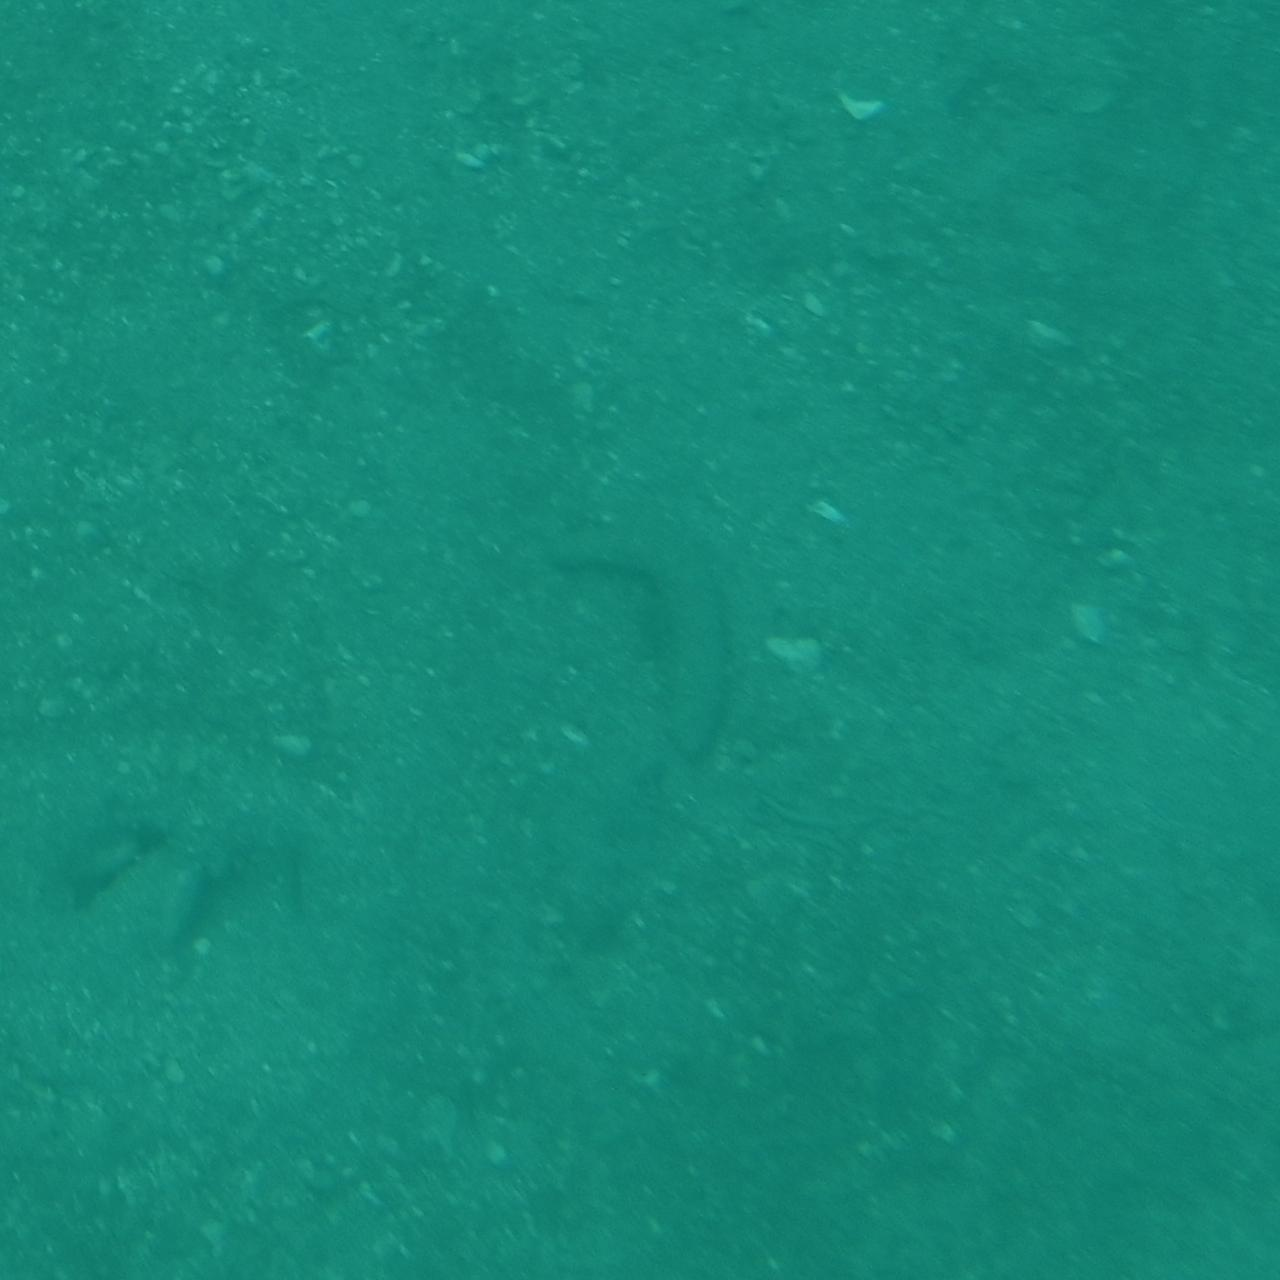Holothuria tubulosa: (538, 512, 742, 768)
